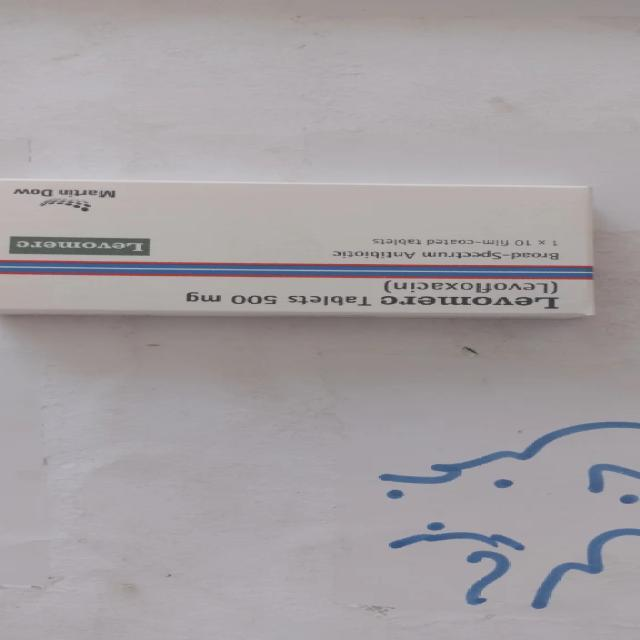drug-name: (378, 292, 558, 310)
